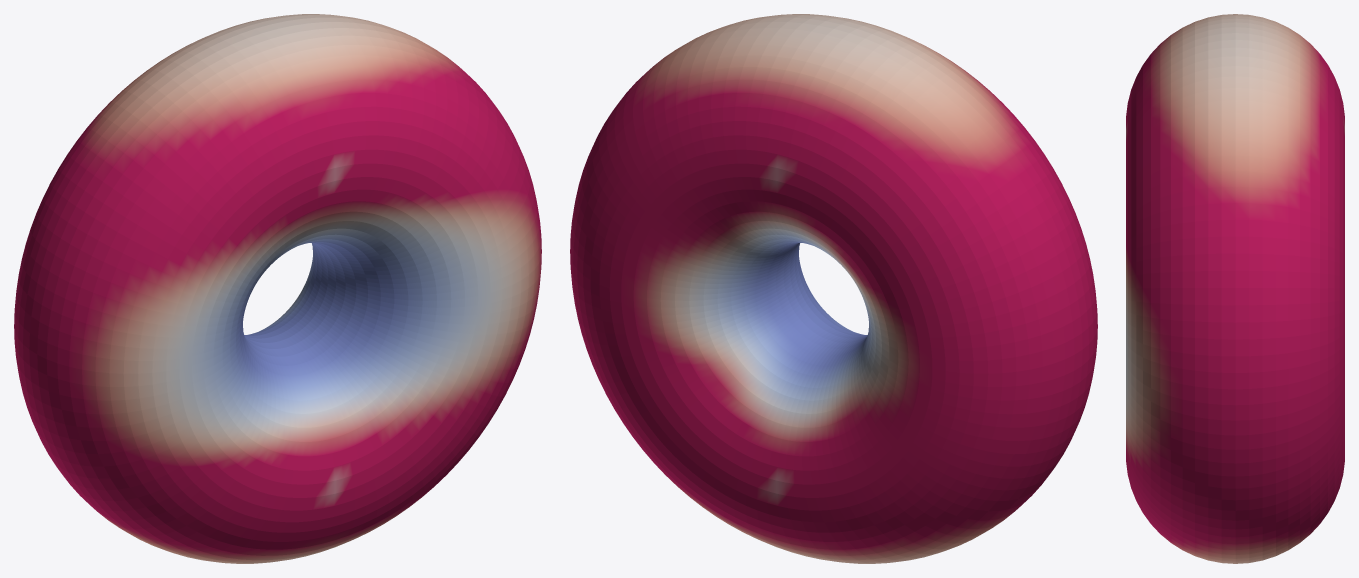
The picture shows the model from 3 angles, left to right: view 1: azimuth 30°, elevation 25°; view 2: azimuth 150°, elevation 25°; view 3: azimuth 270°, elevation 25°; orthographic projection. The views are drawn at different scales.
Parts seen in each view (by area): view 1: world; view 2: world; view 3: world.
Boxes of the visible parts, x1,y1,x2,y2 form: world: [14, 14, 541, 563]; world: [570, 14, 1097, 563]; world: [1126, 14, 1344, 563].
Size of the model in its own units: 24.4 by 24.4 by 9.71.
